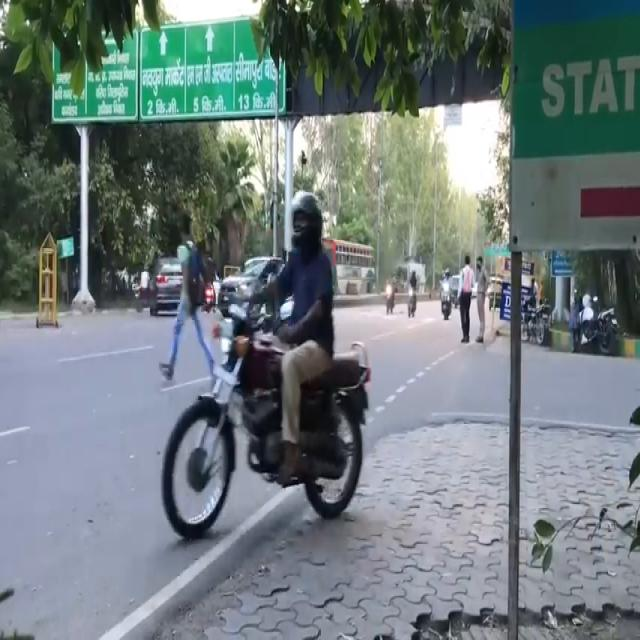MOTORCYCLE: (170, 275, 369, 542), (409, 281, 419, 316)
